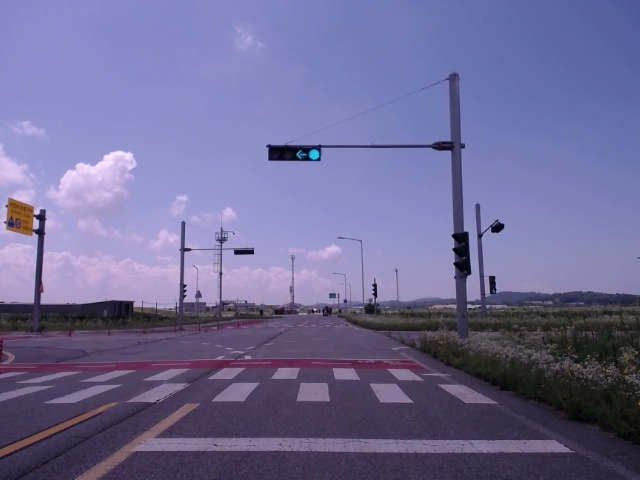all_green_4: (270, 144, 319, 160)
